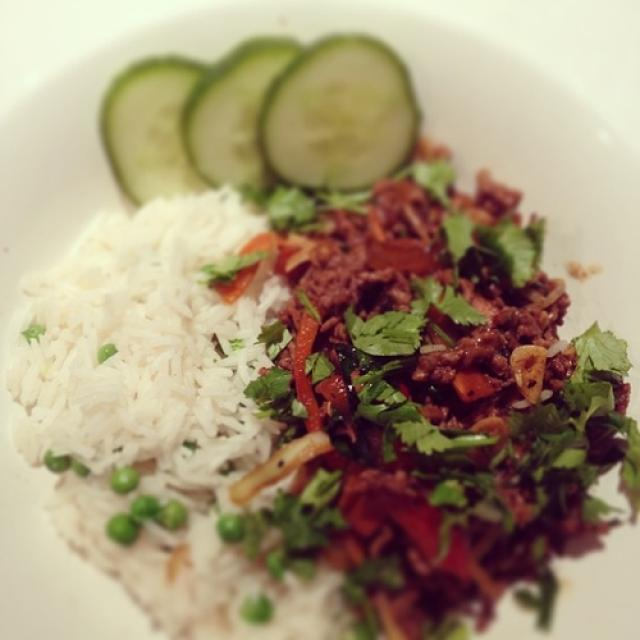牛肉菜式: (26, 67, 606, 613)
